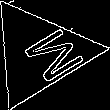M_SW: (2, 19, 77, 86)
